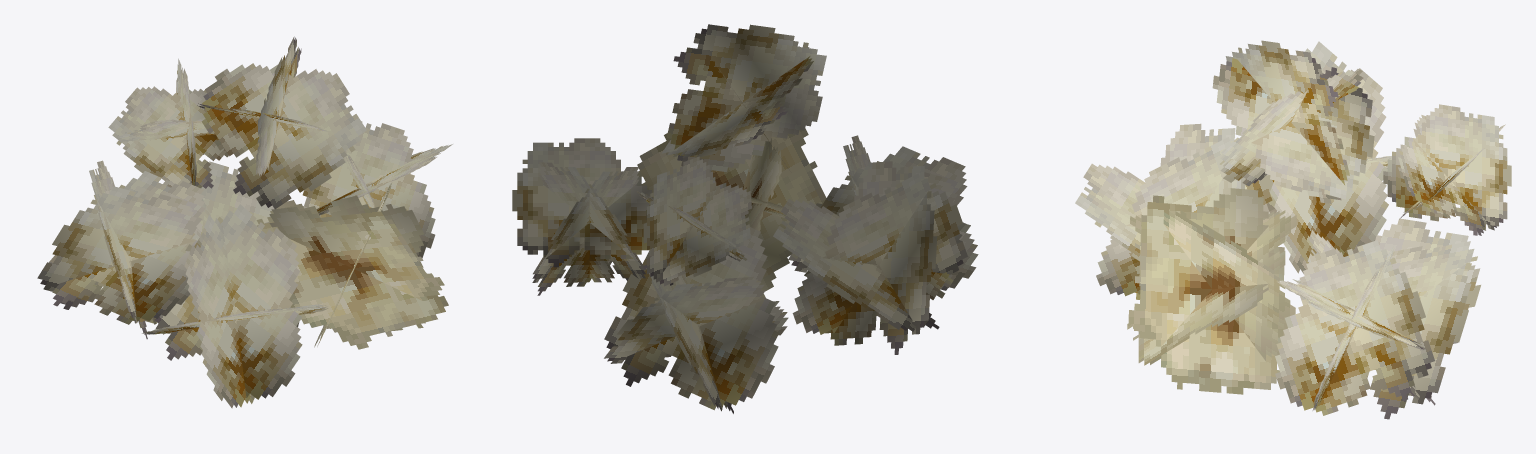
File: stg200_obj_popcorn.obj
The picture shows the model from 3 angles, left to right: view 1: azimuth 30°, elevation 25°; view 2: azimuth 150°, elevation 25°; view 3: azimuth 270°, elevation 25°; orthographic projection. The views are drawn at different scales.
Visible parts, largest first — view 1: polygon0; view 2: polygon0; view 3: polygon0.
Boxes of the visible parts, x1,y1,x2,y2 form: polygon0: (37,36,452,408); polygon0: (512,24,978,413); polygon0: (1075,40,1511,419).
Bounding box in the file's own units: 13.1 × 9.86 × 10.9.
1 material, 1 textured.
